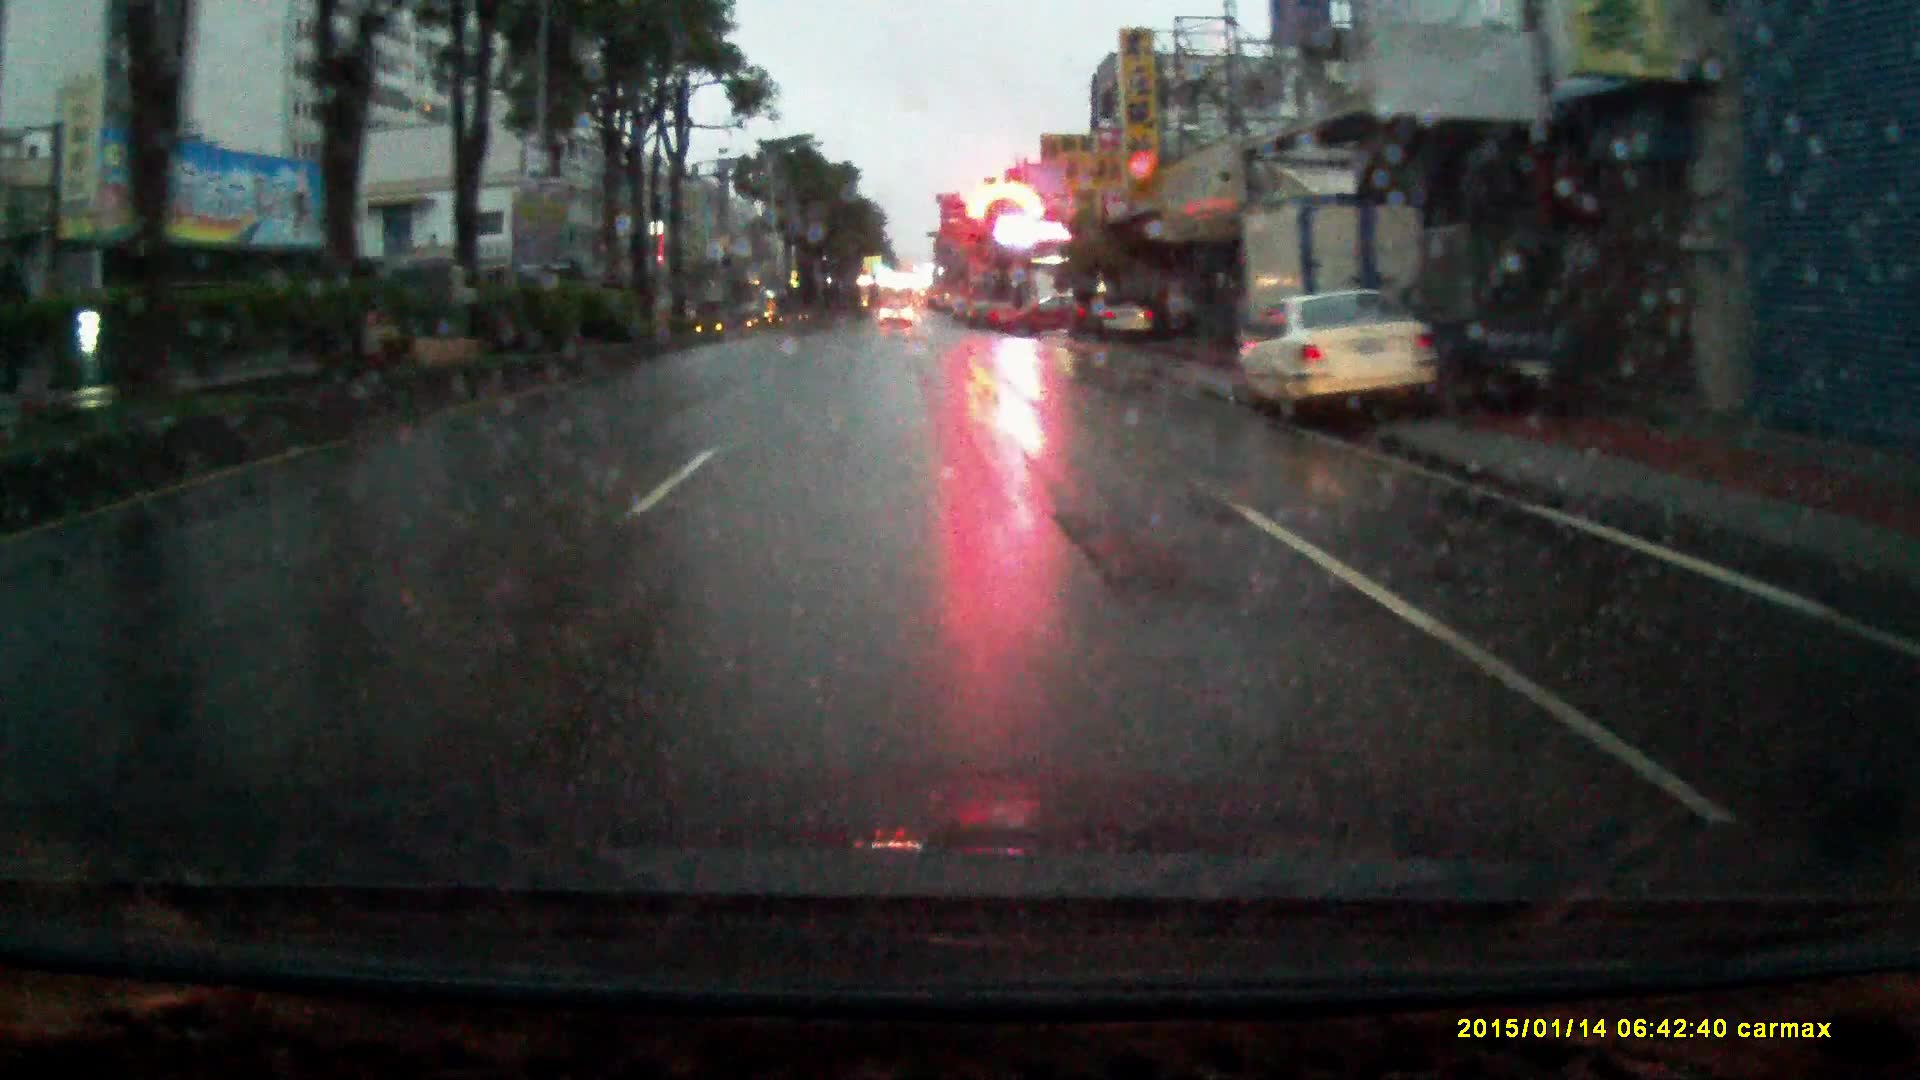vehicle: (1221, 175, 1472, 396), (1458, 214, 1669, 414), (1222, 284, 1451, 419), (996, 289, 1085, 335), (1089, 290, 1156, 339), (880, 297, 914, 330)
